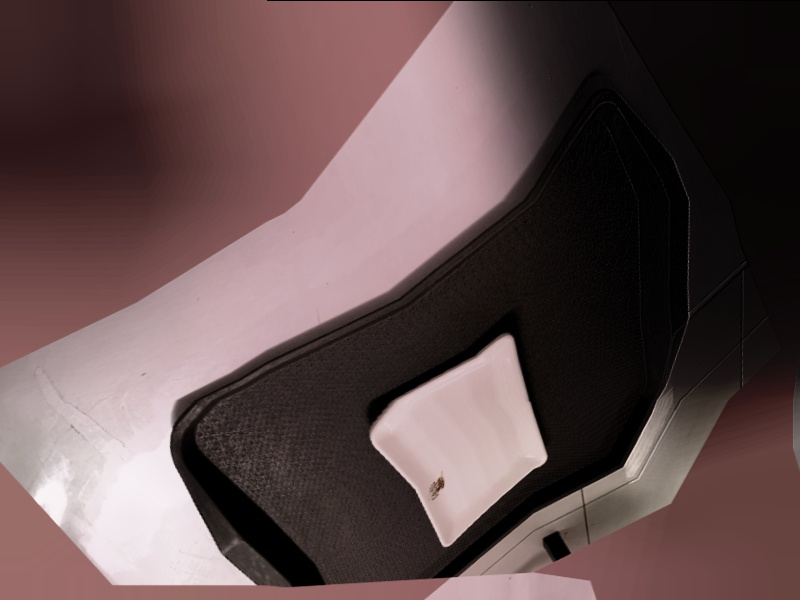dish4: (346, 316, 560, 570)
